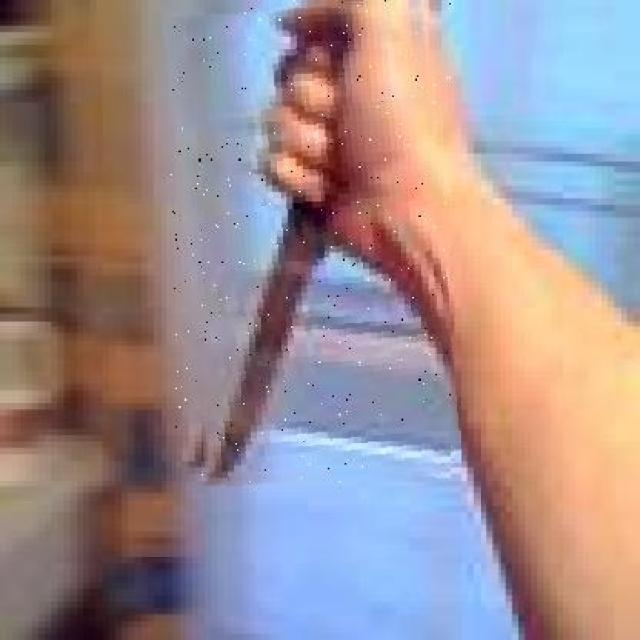knife: (171, 0, 451, 482)
